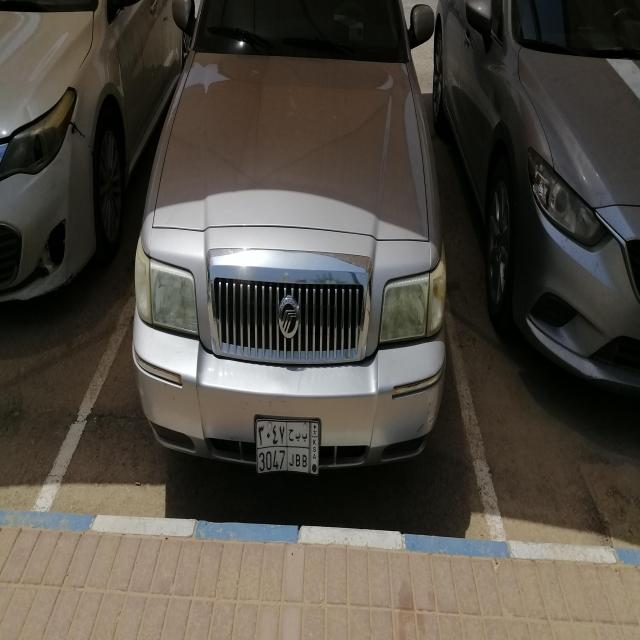license_plate: (252, 412, 322, 488)
